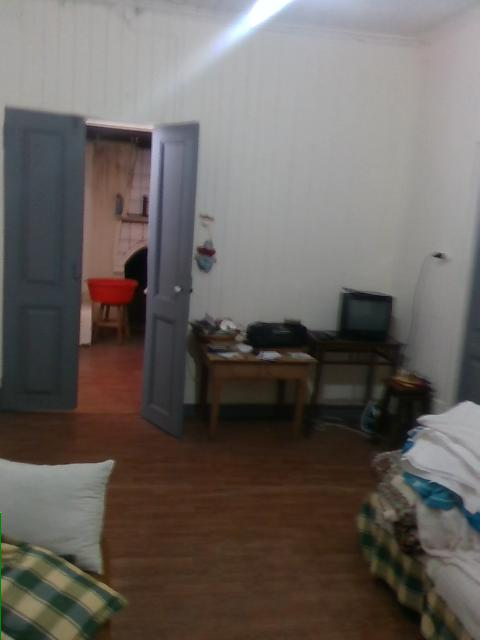door: (1, 105, 85, 415), (140, 121, 200, 440)
